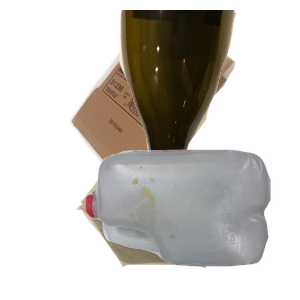cardboard: (67, 16, 295, 196)
glass: (117, 10, 300, 190)
plastic: (83, 147, 300, 300)
trash: (74, 148, 273, 300)
